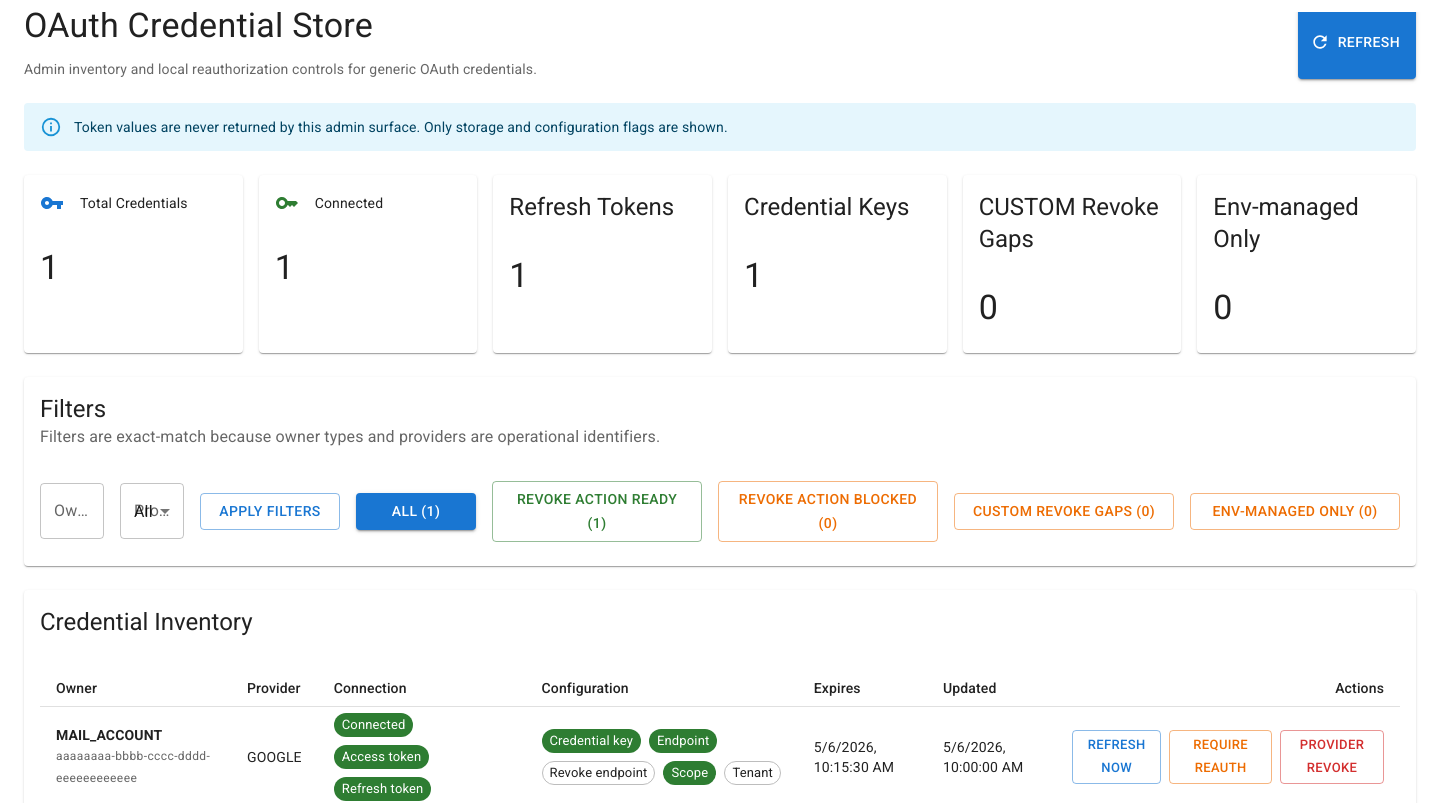
Scenario: surfaces refresh provider errors and reloads inventory
(page scrolled)
Expected: the text "MAIL_ACCOUNT" is shown, top-left (56, 727), bottom-right (162, 743)
Click the button "Refresh Now" at (1117, 757), box top-left (1072, 730), bottom-right (1161, 784)
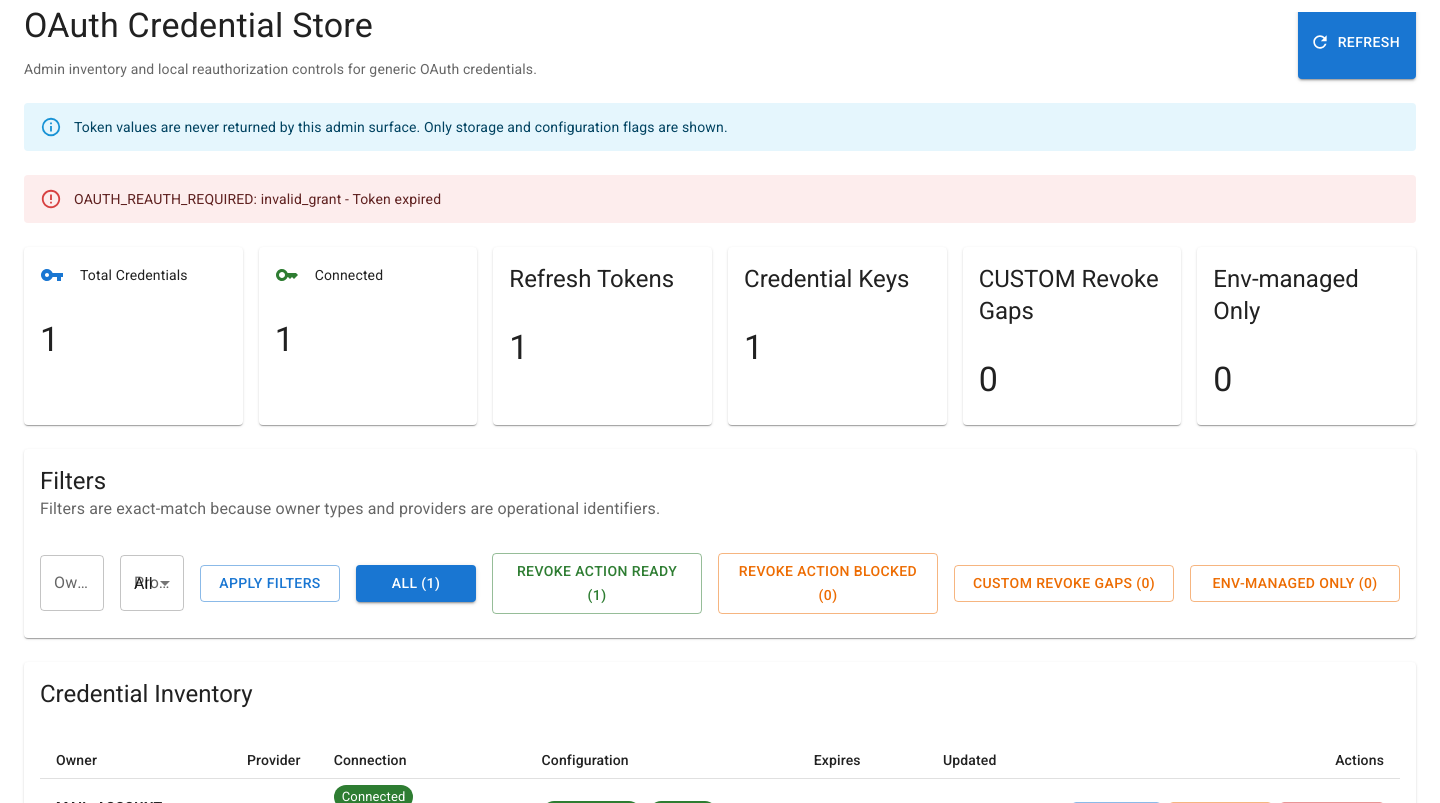
Now the text "OAUTH_REAUTH_REQUIRED: invalid_grant - Token expired" is shown, box top-left (74, 191), bottom-right (441, 207)
